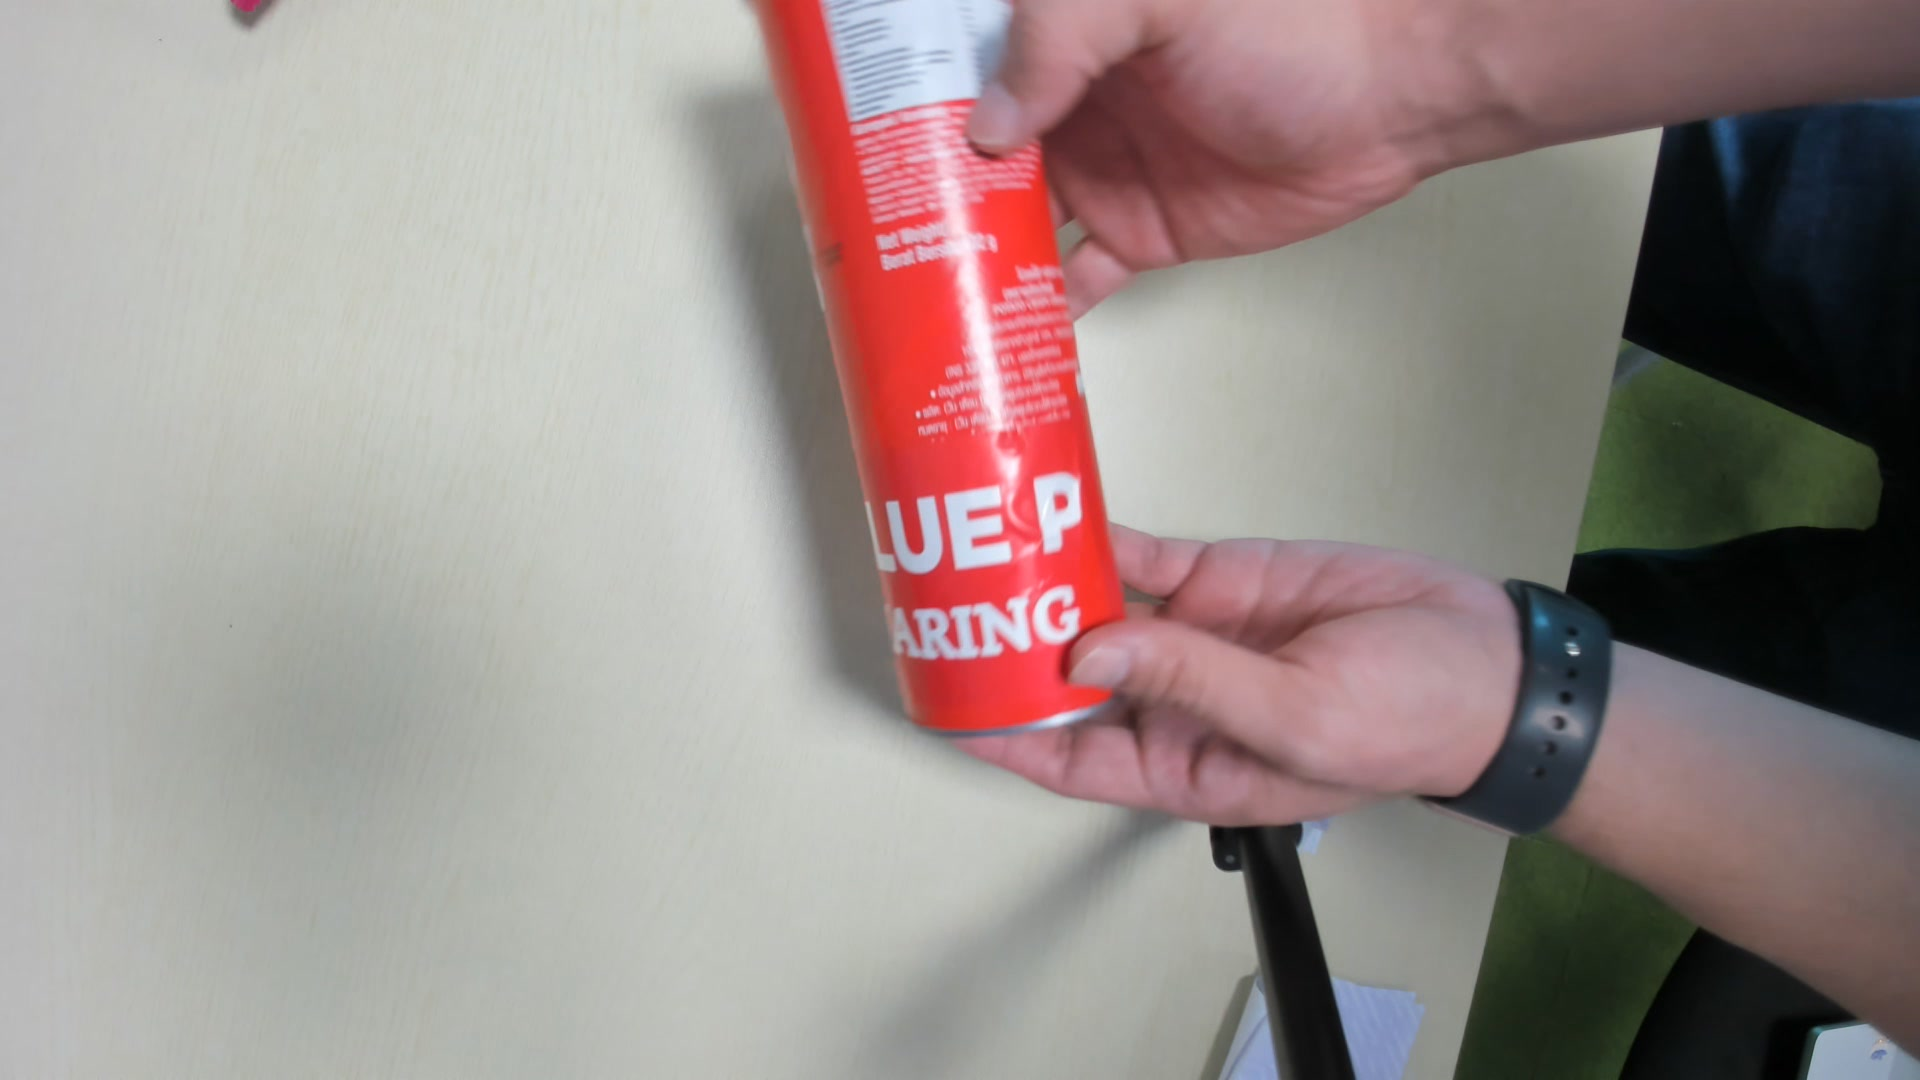PotatoChipsKeropok_100-199g_NonHalal_NonHealthy: (748, 7, 1120, 716)
